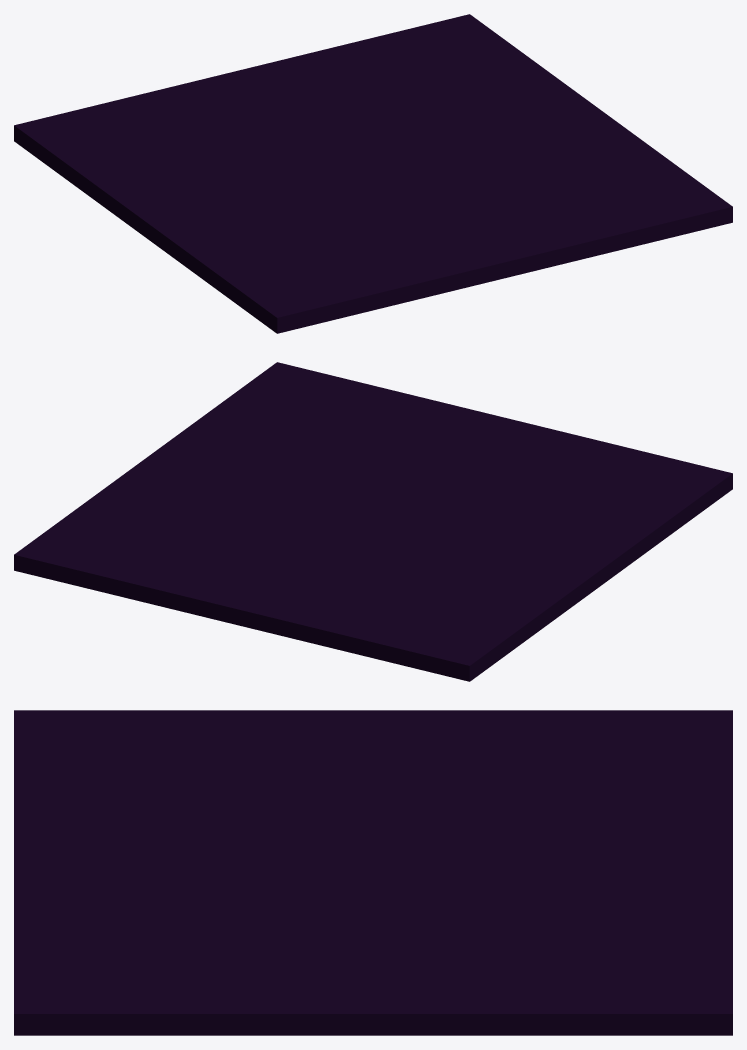
File: ceilingPlain.fbx
The picture shows the model from 3 angles, top to bottom: view 1: azimuth 30°, elevation 25°; view 2: azimuth 150°, elevation 25°; view 3: azimuth 270°, elevation 25°; orthographic projection. The views are drawn at different scales.
Parts seen in each view (by area): view 1: pCube1; view 2: pCube1; view 3: pCube1.
Part boxes in pixels (<box>): pCube1: <box>14,14,732,333</box>; pCube1: <box>14,362,732,681</box>; pCube1: <box>14,710,732,1035</box>.
Size of the model in its own units: 3 by 0.1 by 3.
